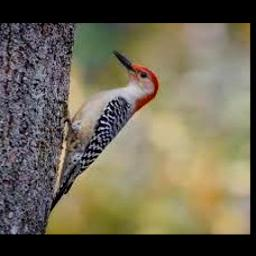Woodpecker: (48, 50, 159, 213)
